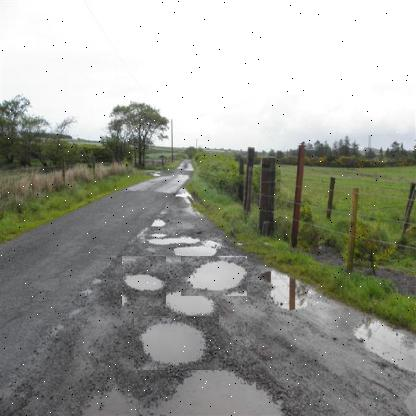pothole_water: (134, 316, 220, 371), (181, 256, 248, 297), (122, 256, 167, 307)
